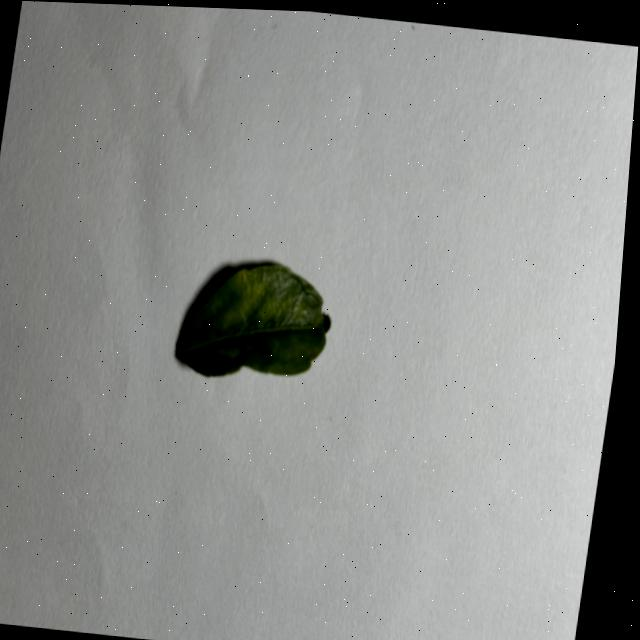greening: (175, 261, 330, 375)
